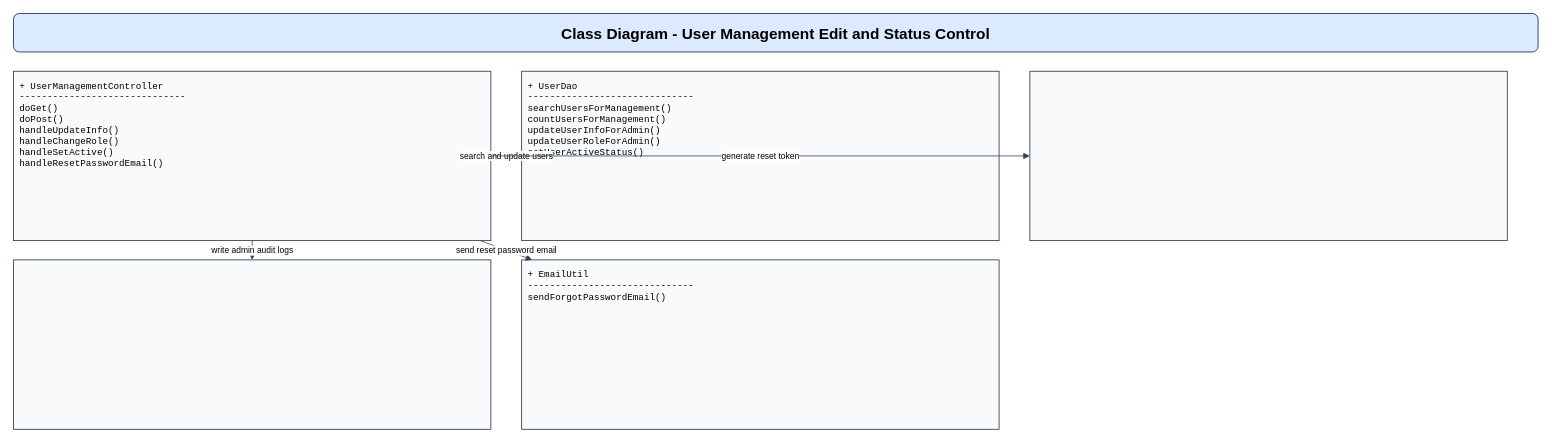
The diagram is 1552 pixels wide and 443 high, and some of its shapes have lost their labels. Here are the shapes that lost their labels. From the top down, the centre of each, then its label:
At point 1268,155: "+ UserService ------------------------------ createPasswordResetToken()".
At point 252,344: "+ AuditLogService ------------------------------ createAuditLog()".
